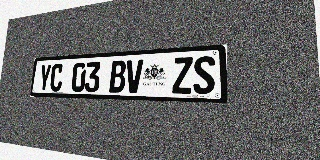0: (71, 62, 86, 92)
3: (84, 62, 101, 92)
B: (109, 60, 126, 93)
C: (49, 63, 64, 92)
S: (193, 56, 215, 94)
V: (125, 59, 143, 93)
Y: (38, 64, 52, 91)
Z: (172, 57, 193, 94)
